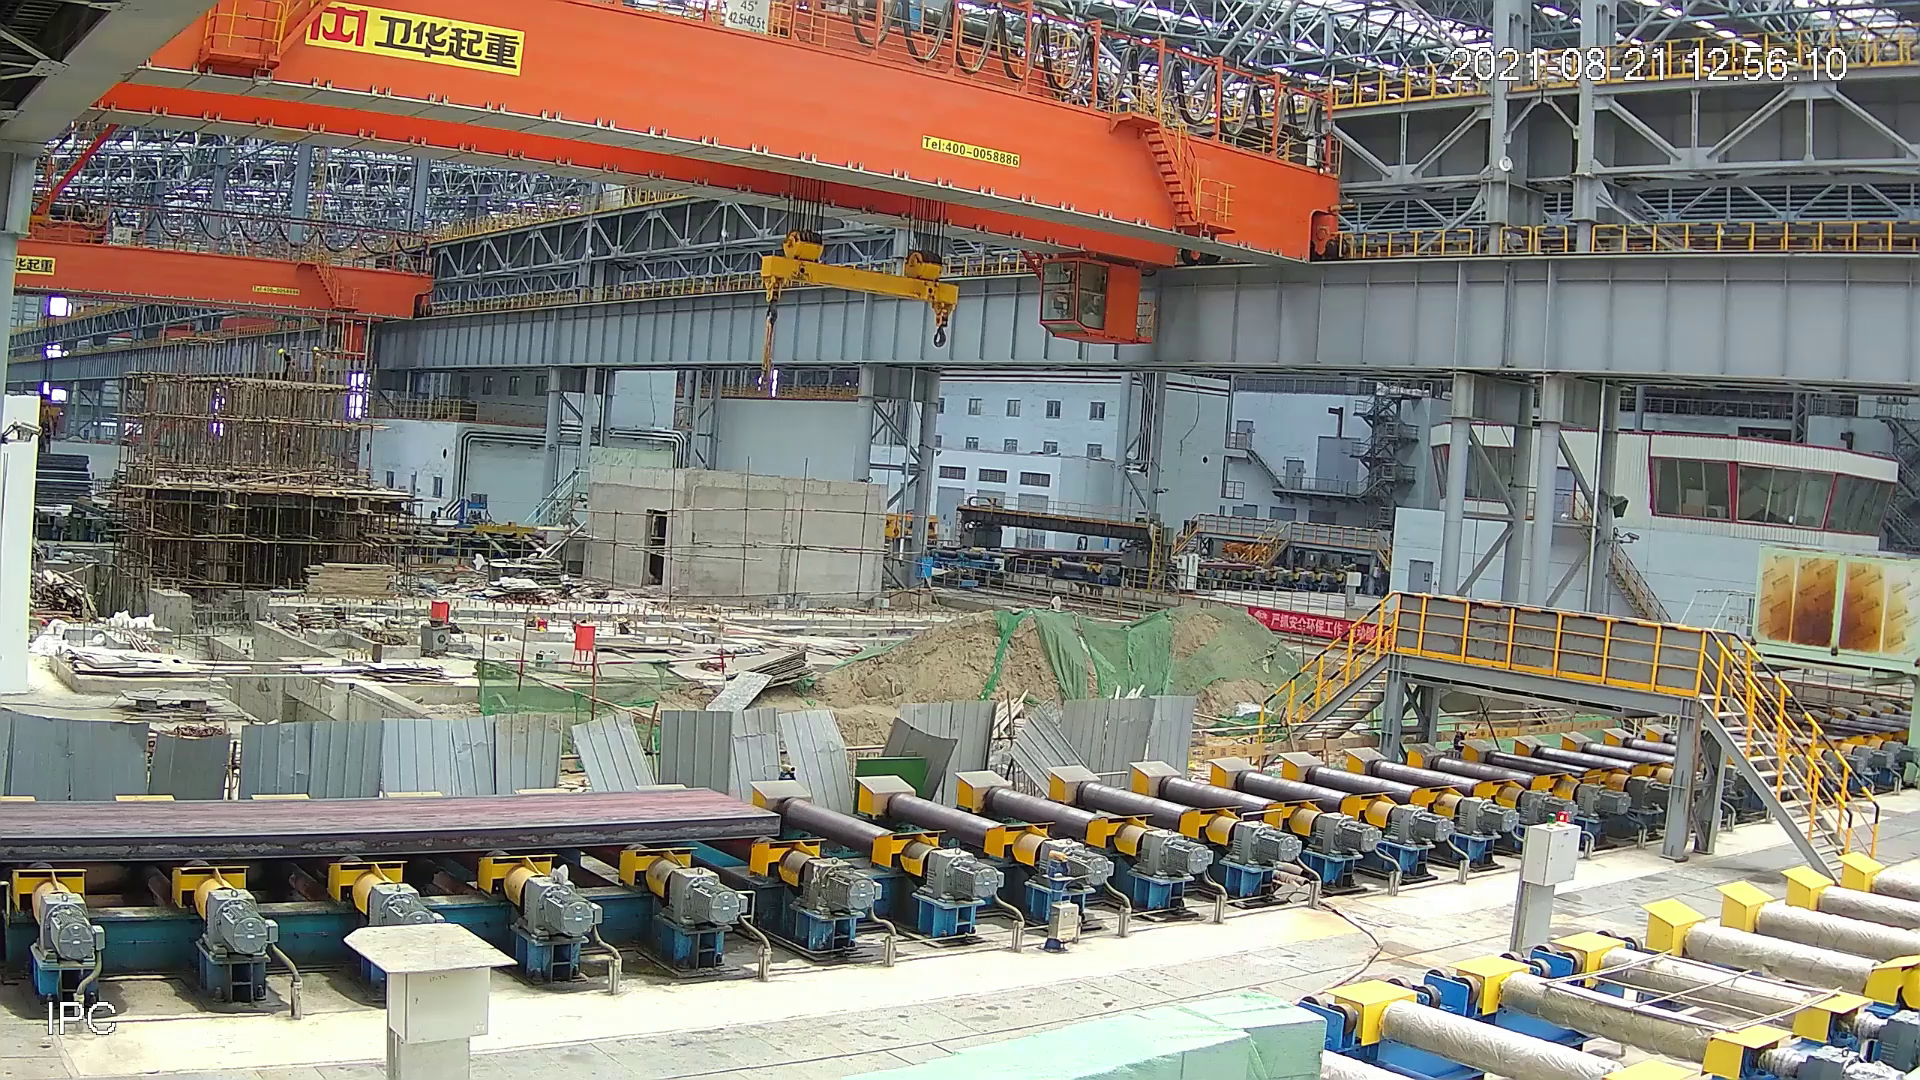slab: (1, 785, 785, 872)
